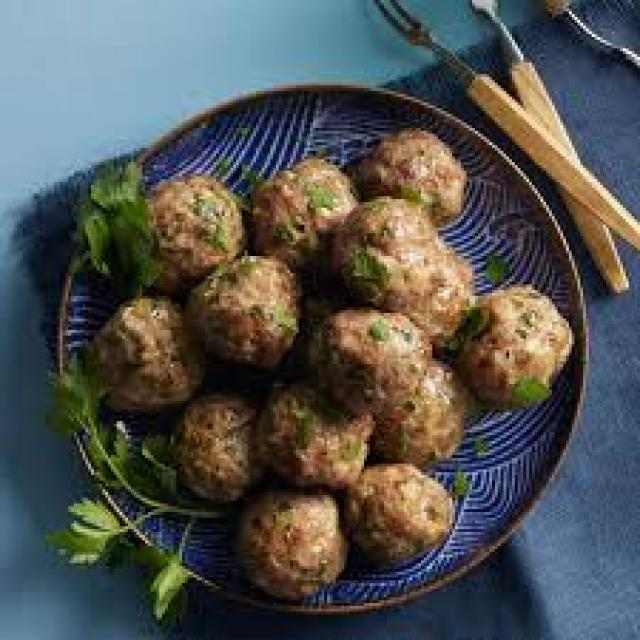meatball: (226, 491, 355, 606), (325, 189, 444, 313), (336, 121, 475, 226), (184, 250, 306, 369), (125, 170, 246, 289), (252, 376, 376, 492), (460, 284, 575, 406), (79, 295, 204, 407), (335, 462, 457, 576), (306, 306, 427, 420), (241, 155, 351, 266), (165, 394, 262, 499)
